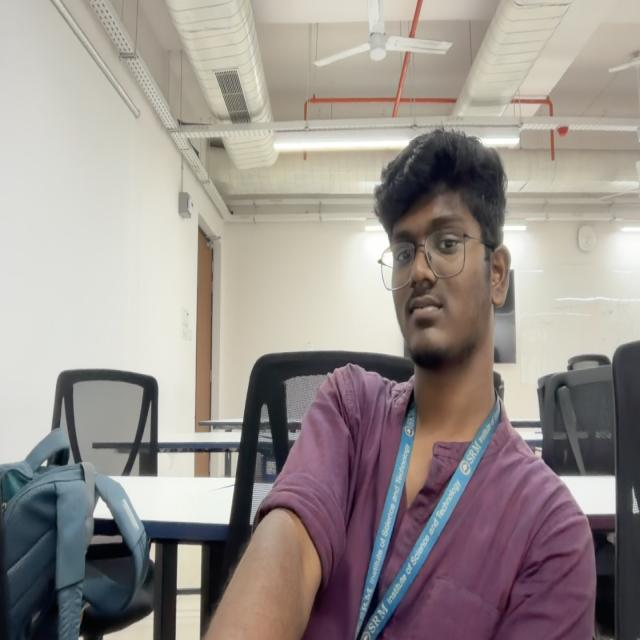ravindra: (372, 128, 512, 370)
